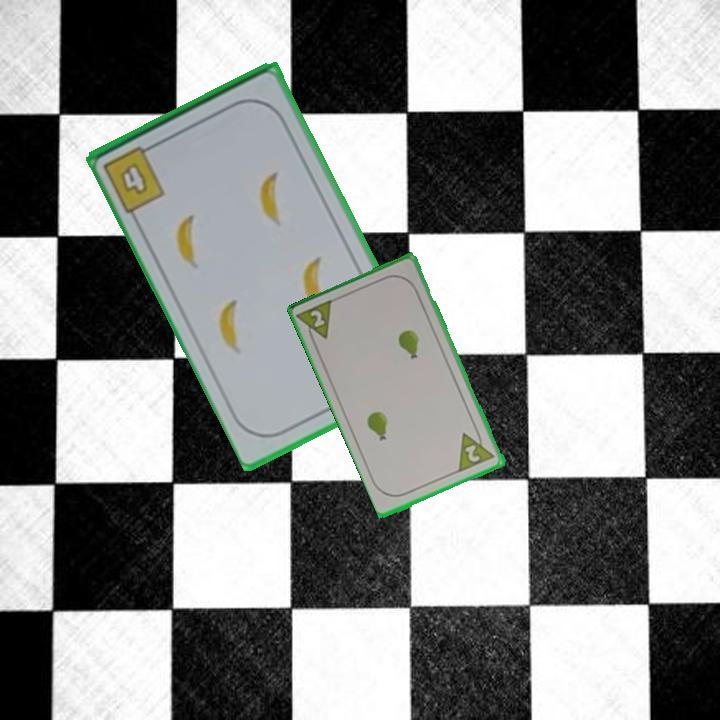2p: (295, 295, 336, 348), (462, 441, 483, 466)
4b: (99, 139, 169, 216)
